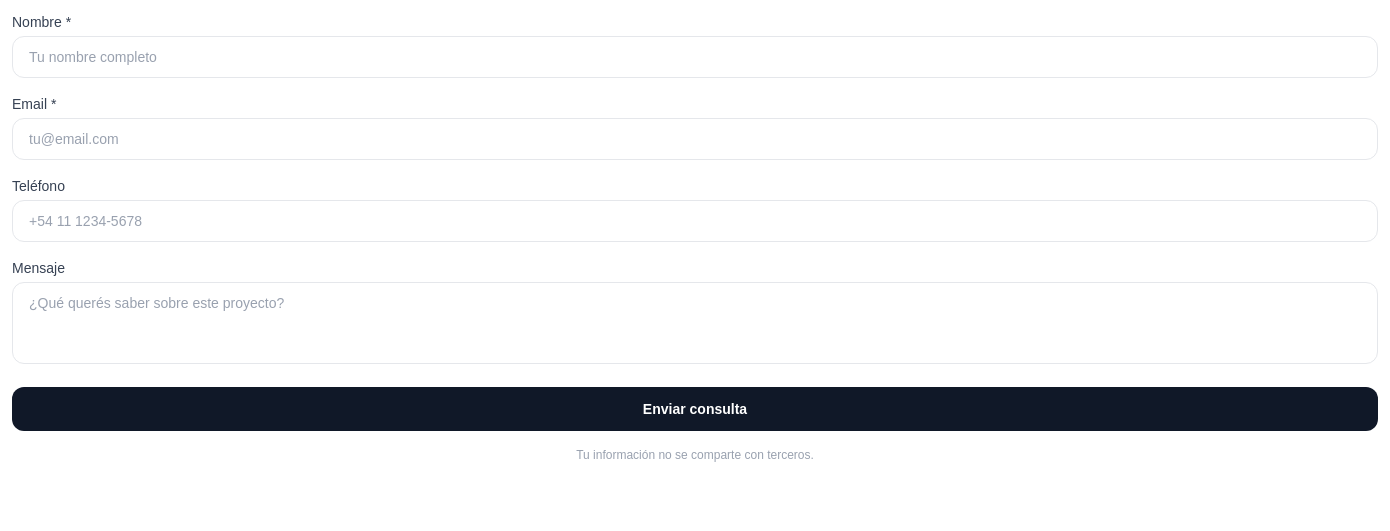
LeadForm › muestra error cuando Supabase falla
Type "Ana" into the field labelled "Nombre *" at (695, 57), box [12, 36, 1378, 78]
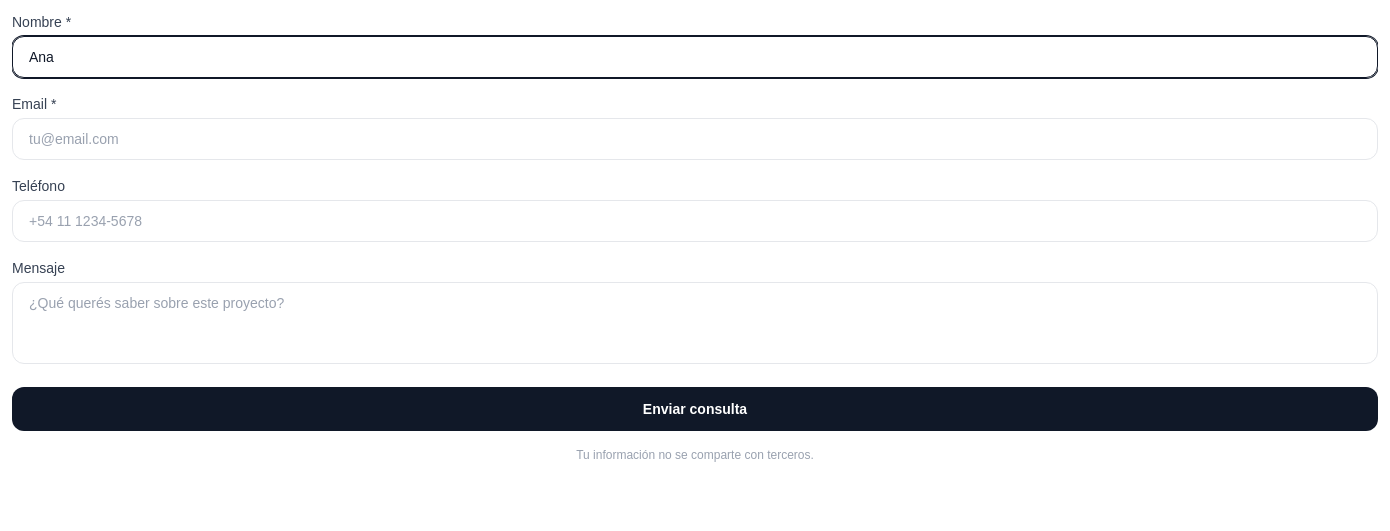
Type "ana@email.com" into the field labelled "Email *" at (695, 139), box [12, 118, 1378, 160]
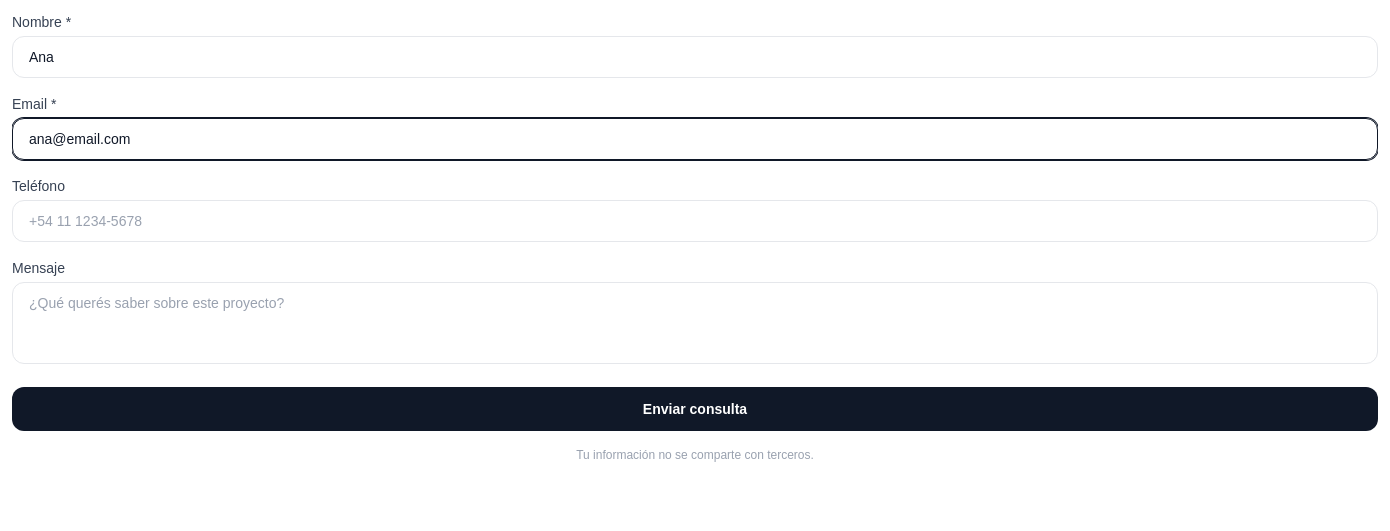
Click the button "Enviar consulta" at (695, 409), box [12, 387, 1378, 431]
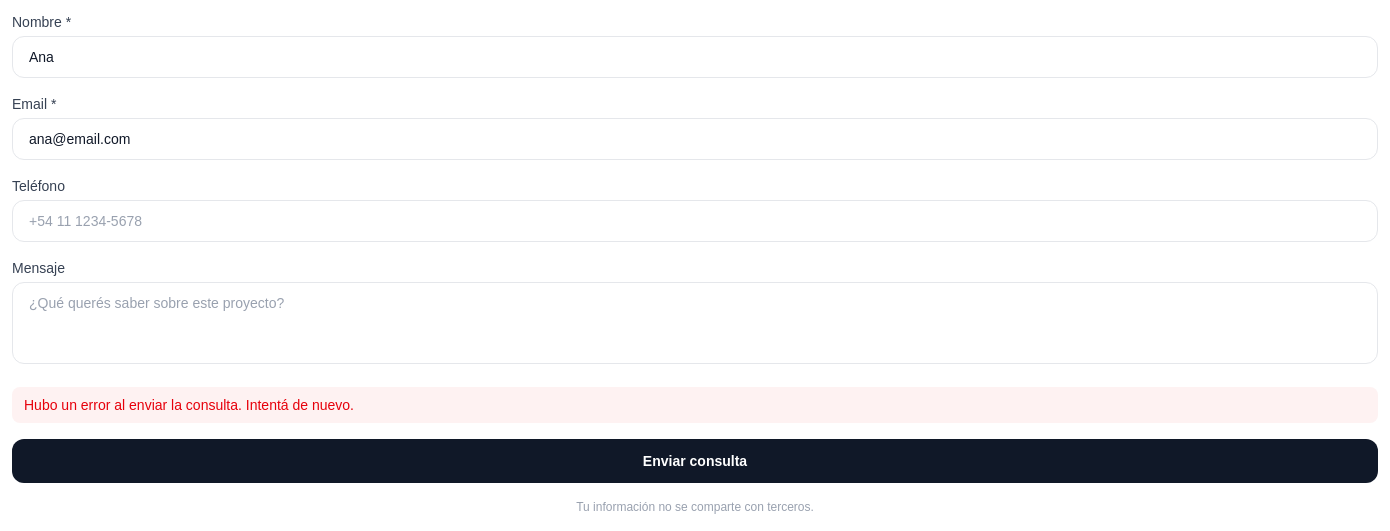
Expected: the text "Hubo un error al enviar la consulta. Intentá de nuevo." is shown, [12, 387, 1378, 423]
